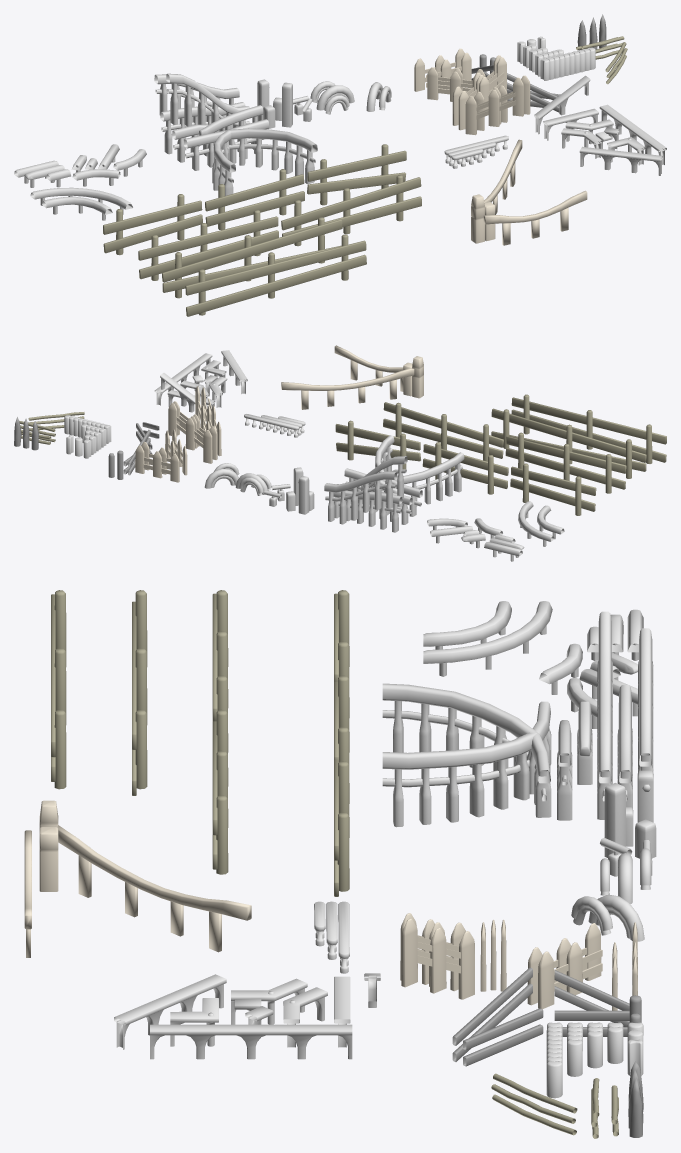
The model's file is 3d-platformer-set2_fences.fbx.
3 views of the same model, one above another, from view 1: azimuth 30°, elevation 25°; view 2: azimuth 150°, elevation 25°; view 3: azimuth 270°, elevation 25° (orthographic). The views are drawn at different scales.
Visible parts, largest first — view 1: fence_10_part_07, fence_10_part_06, fence_02_part_06, fence_10_part_04, fence_10_part_05, fence_10_part_01, fence_10_part_02, fence_10_part_03, fence_02_part_03, fence_02_part_07, fence_09_part_04, fence_07_part_06.001 (+25 smaller); view 2: fence_10_part_07, fence_10_part_04, fence_10_part_06, fence_10_part_05, fence_02_part_01, fence_10_part_01, fence_10_part_03, fence_10_part_02, fence_02_part_07, fence_09_part_01, fence_02_part_02, fence_05_part_05 (+19 smaller); view 3: fence_02_part_06, fence_02_part_07, fence_09_part_01, fence_12_part_09, fence_05_part_08, fence_10_part_07, fence_10_part_06, fence_02_part_03, fence_10_part_05, fence_01_part_09, fence_12_part_07, fence_02_part_01 (+30 smaller).
Boxes of the visible parts, x1,y1,x2,y2 form: fence_10_part_07: (185,234,366,316); fence_10_part_06: (162,217,342,298); fence_02_part_06: (183,128,317,184); fence_10_part_04: (138,210,278,280); fence_10_part_05: (281,175,421,246); fence_10_part_01: (103,194,202,255); fence_10_part_02: (205,169,304,230); fence_10_part_03: (307,144,406,205); fence_02_part_03: (166,73,250,131); fence_02_part_07: (212,119,269,195); fence_09_part_04: (483,190,587,245); fence_07_part_06.001: (540,47,595,80); fence_10_part_07: (511,394,666,463); fence_10_part_04: (505,432,626,493); fence_10_part_06: (491,408,646,478); fence_10_part_05: (383,402,503,461); fence_02_part_01: (324,471,397,524); fence_10_part_01: (510,463,596,515); fence_10_part_03: (335,420,420,469); fence_10_part_02: (422,442,508,494); fence_02_part_07: (353,452,464,506); fence_09_part_01: (281,368,414,409); fence_02_part_02: (333,490,402,532); fence_05_part_05: (168,403,212,463); fence_02_part_06: (382,701,551,827); fence_02_part_07: (382,683,551,817); fence_09_part_01: (57,825,251,952); fence_12_part_09: (150,1024,352,1059); fence_05_part_08: (401,918,474,999); fence_10_part_07: (51,590,66,789); fence_10_part_06: (132,590,147,795); fence_02_part_03: (597,611,612,819); fence_10_part_05: (212,709,228,874); fence_01_part_09: (423,601,552,676); fence_12_part_07: (114,974,226,1049); fence_02_part_01: (638,628,653,771).
Size of the model in its own units: 11876 by 1841 by 6244.
